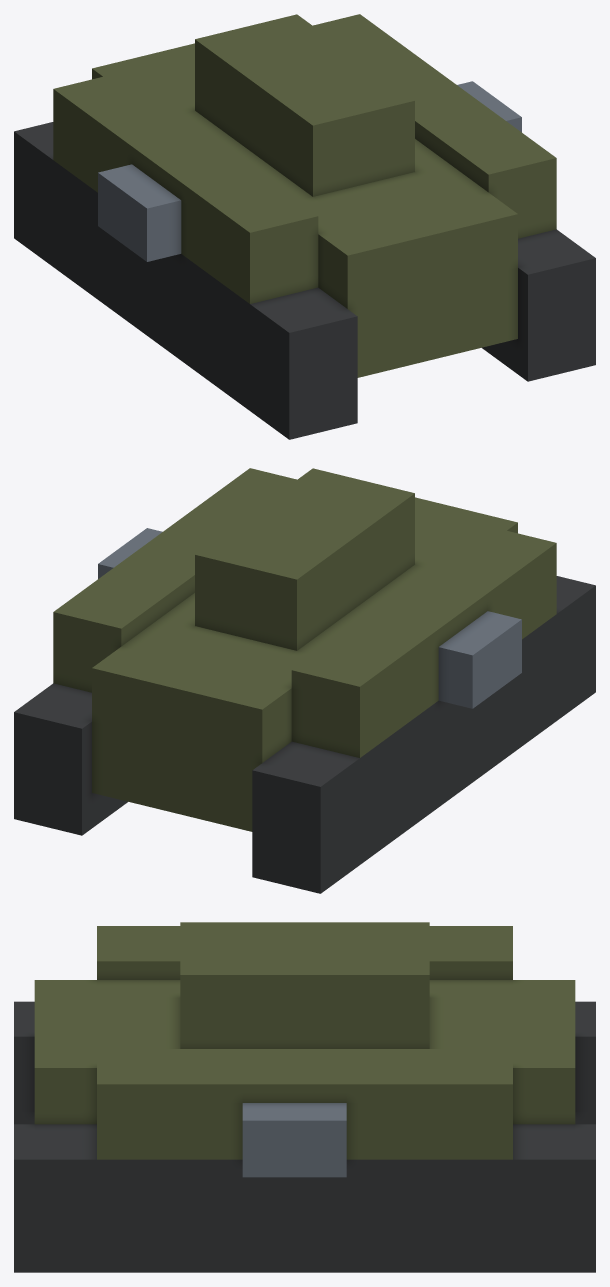
Rendered from u_landship.glb.
The picture shows the model from 3 angles, top to bottom: view 1: azimuth 30°, elevation 25°; view 2: azimuth 150°, elevation 25°; view 3: azimuth 270°, elevation 25°; orthographic projection. The views are drawn at different scales.
Visible parts, largest first — view 1: u_landship_body; view 2: u_landship_body; view 3: u_landship_body.
Part boxes in pixels (x1,y1,x2,y2): u_landship_body: (14,14,595,439); u_landship_body: (14,468,595,893); u_landship_body: (14,922,595,1272).
Size of the model in its own units: 1.38 by 0.8125 by 1.75.
1 material, 1 textured.
